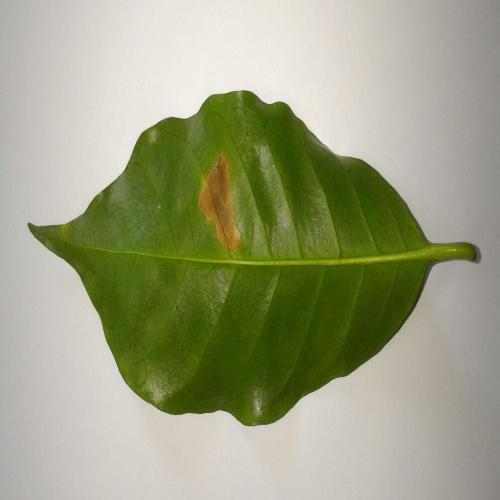leaf: (198, 154, 240, 250)
